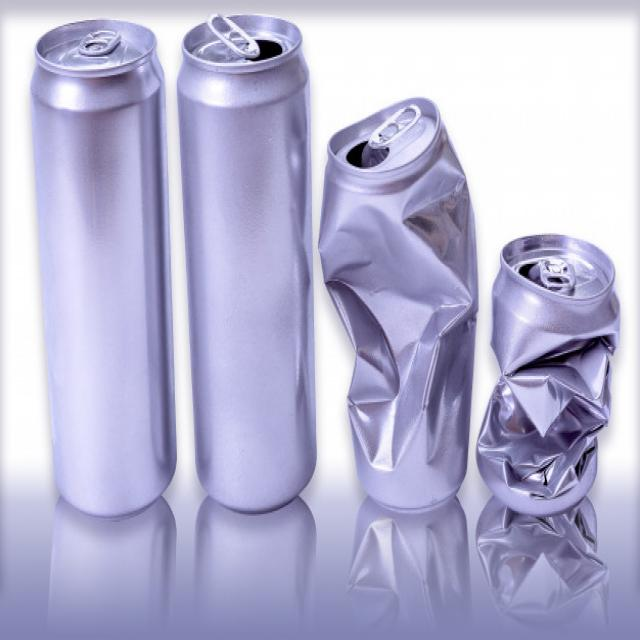non-organic waste: (172, 1, 320, 540), (23, 15, 178, 529), (315, 88, 479, 520), (475, 204, 627, 584)
